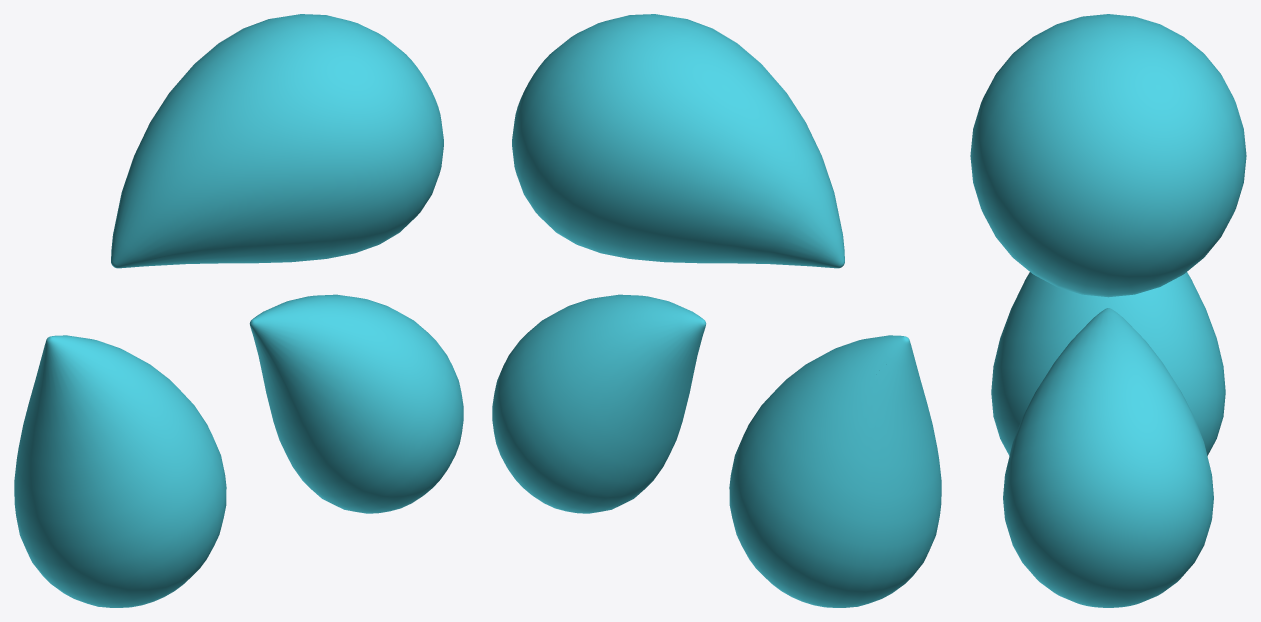
The model's file is sweat_droplets.glb.
3 views of the same model, side by side, from view 1: azimuth 30°, elevation 25°; view 2: azimuth 150°, elevation 25°; view 3: azimuth 270°, elevation 25° (orthographic). The views are drawn at different scales.
Parts seen in each view (by area): view 1: Sphere.375; view 2: Sphere.375; view 3: Sphere.375.
Part boxes in pixels (x1,y1,x2,y2): Sphere.375: (14, 14, 463, 607); Sphere.375: (492, 14, 941, 607); Sphere.375: (970, 14, 1246, 607).
Bounding box in the file's own units: 1.4 × 1.67 × 0.7362.
1 material, 1 textured.
